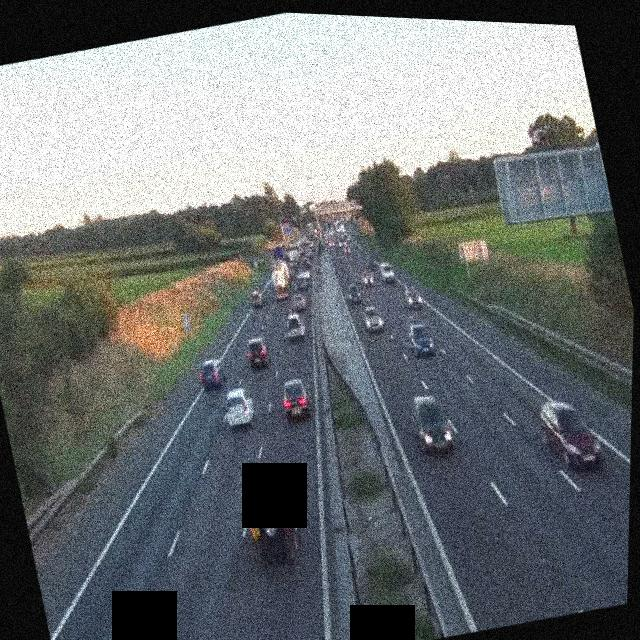car: (234, 459, 308, 567), (533, 390, 606, 478), (407, 390, 458, 458), (217, 383, 256, 431), (278, 376, 313, 421), (405, 319, 435, 358), (196, 355, 228, 391), (244, 334, 272, 370), (361, 304, 385, 332), (283, 315, 306, 342), (401, 286, 423, 312), (377, 259, 397, 284), (346, 281, 364, 304), (289, 292, 308, 313), (248, 289, 266, 310), (295, 270, 312, 291), (359, 268, 374, 287), (365, 252, 377, 268)
truck: (264, 248, 294, 299), (40, 592, 71, 640), (268, 239, 290, 273)
